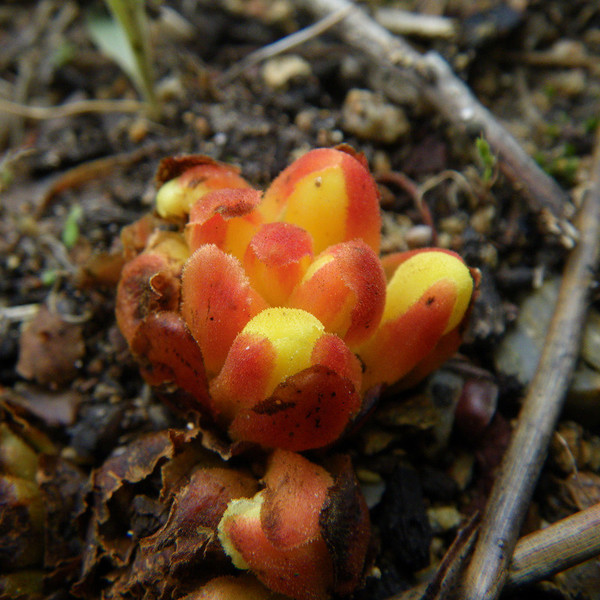obstacle: (144, 124, 487, 552)
